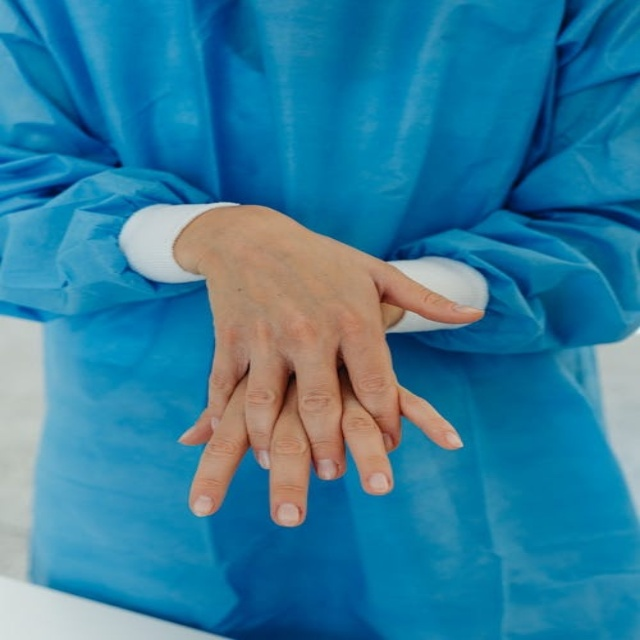Sin_guantes: (158, 208, 477, 530)
